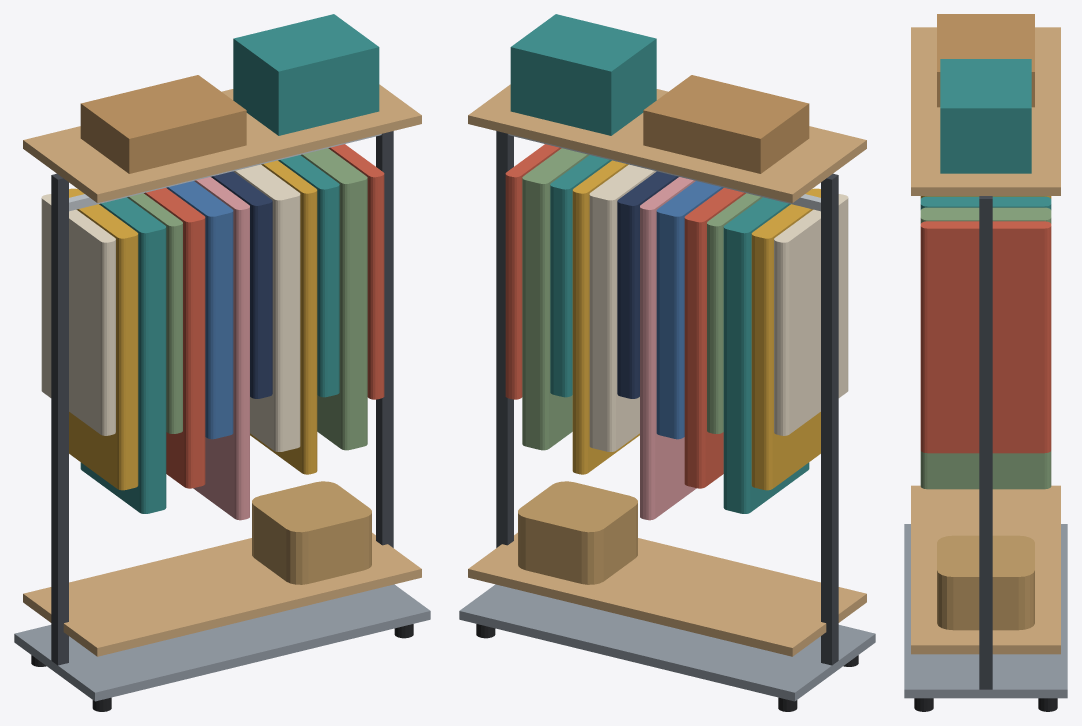
Rendered from rolling_clothes_rack.glb.
3 views of the same model, side by side, from view 1: azimuth 30°, elevation 25°; view 2: azimuth 150°, elevation 25°; view 3: azimuth 270°, elevation 25° (orthographic).
Visible parts, largest first — view 1: rolling_clothes_rack_Body; view 2: rolling_clothes_rack_Body; view 3: rolling_clothes_rack_Body.
Part boxes in pixels (x1,y1,x2,y2): rolling_clothes_rack_Body: (14,14,430,711); rolling_clothes_rack_Body: (459,14,875,711); rolling_clothes_rack_Body: (904,14,1067,711).
Bounding box in the file's own units: 1.2 × 2 × 0.5.
